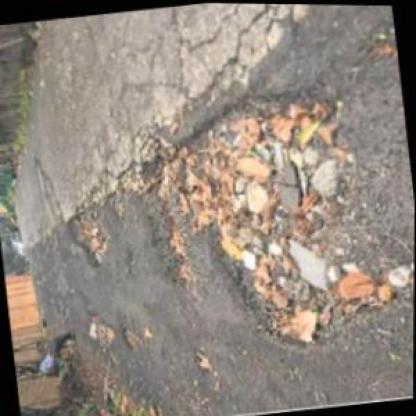pothole: (124, 65, 414, 368), (63, 200, 113, 272), (82, 308, 115, 352), (119, 324, 142, 351)
